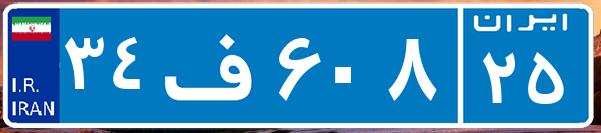0: (330, 28, 385, 110)
2: (475, 38, 525, 113)
3: (57, 26, 110, 107)
4: (110, 28, 158, 105)
5: (525, 38, 570, 115)
6: (273, 28, 330, 110)
8: (385, 28, 445, 110)
ف: (158, 15, 273, 115)
